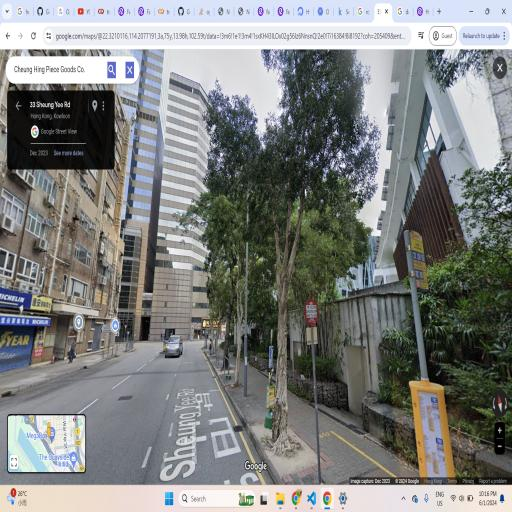Roads: (13, 329, 254, 478)
Trees: (258, 65, 382, 454), (186, 79, 262, 409)
